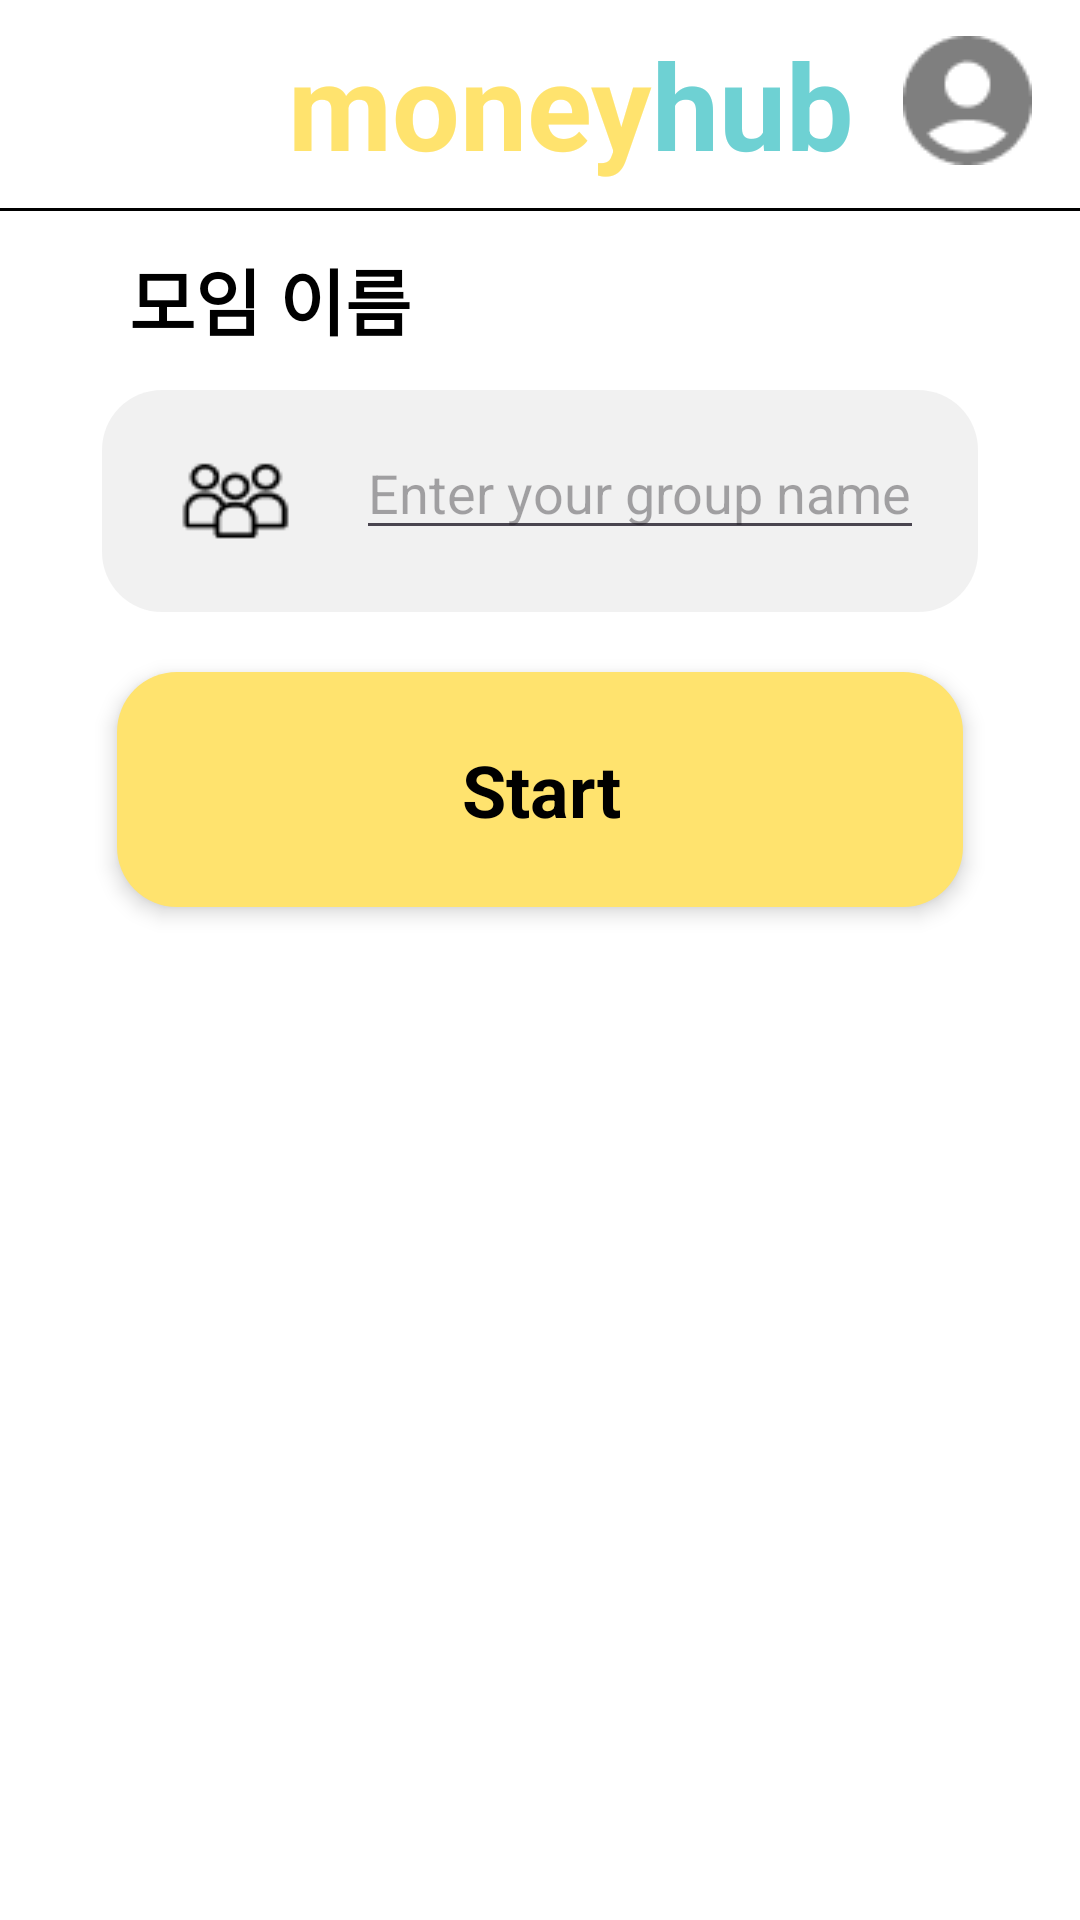

Locate icon controls on the screen. Image size 1080*1920, boxes as bbox=(x1, y1, x2, y2).
mypage: bbox=(903, 36, 1032, 165)
